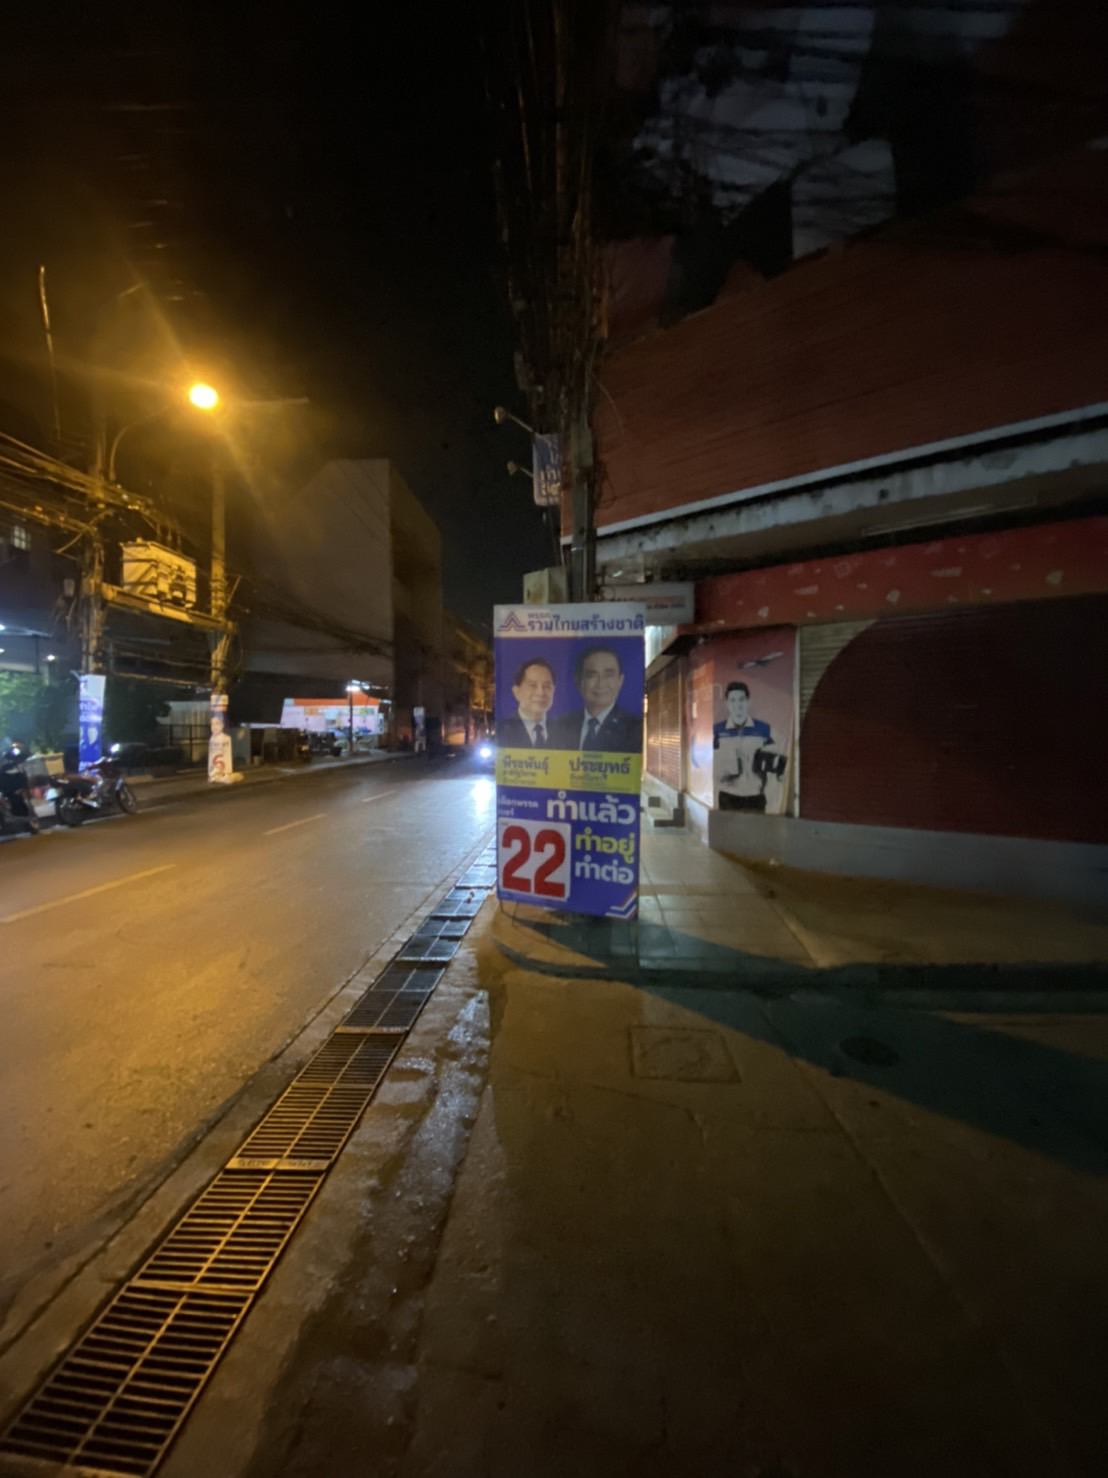Banner: (497, 602, 649, 915)
